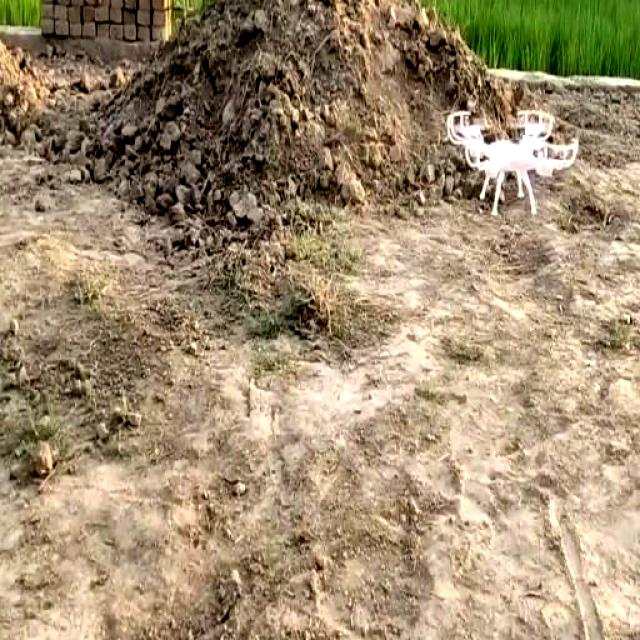bird: (438, 86, 585, 222)
